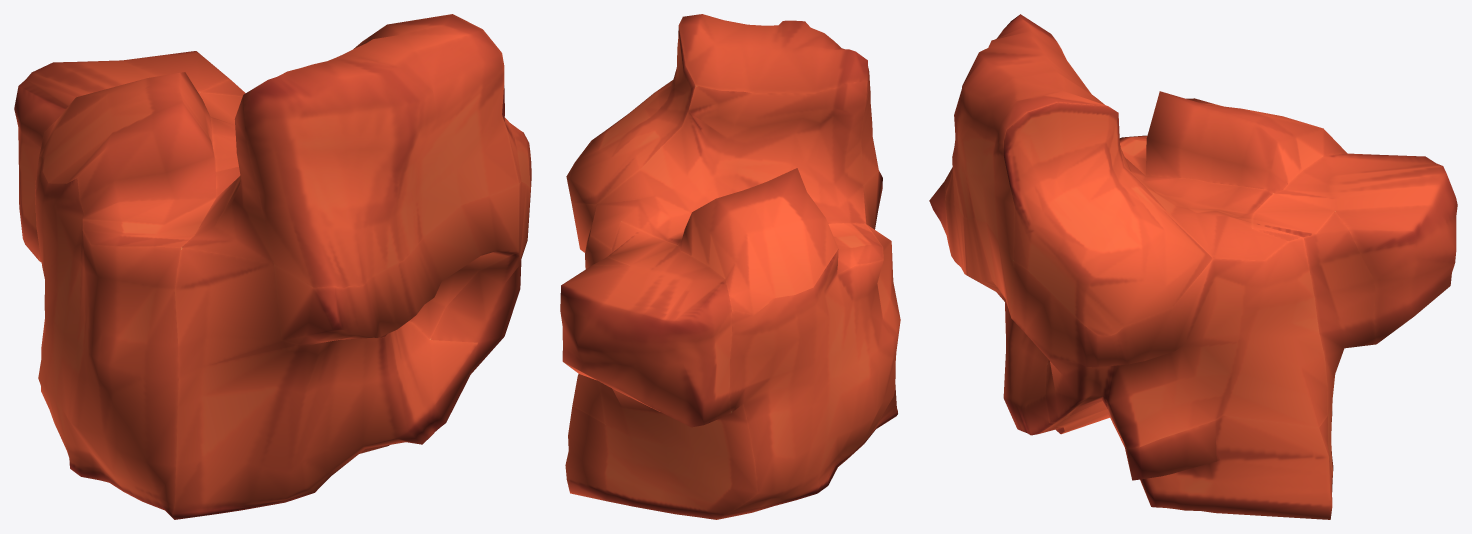
The model's file is Boulders.glb.
3 views of the same model, side by side, from view 1: azimuth 30°, elevation 25°; view 2: azimuth 150°, elevation 25°; view 3: azimuth 270°, elevation 25° (orthographic). The views are drawn at different scales.
Parts seen in each view (by area): view 1: CBRetopo; view 2: CBRetopo; view 3: CBRetopo.
Part boxes in pixels (left/top/right/bottom): CBRetopo: left=14, top=14, right=531, bottom=519; CBRetopo: left=560, top=14, right=900, bottom=519; CBRetopo: left=929, top=14, right=1457, bottom=519.
Size of the model in its own units: 13.85 by 15.76 by 17.75.
1 material, 1 textured.
